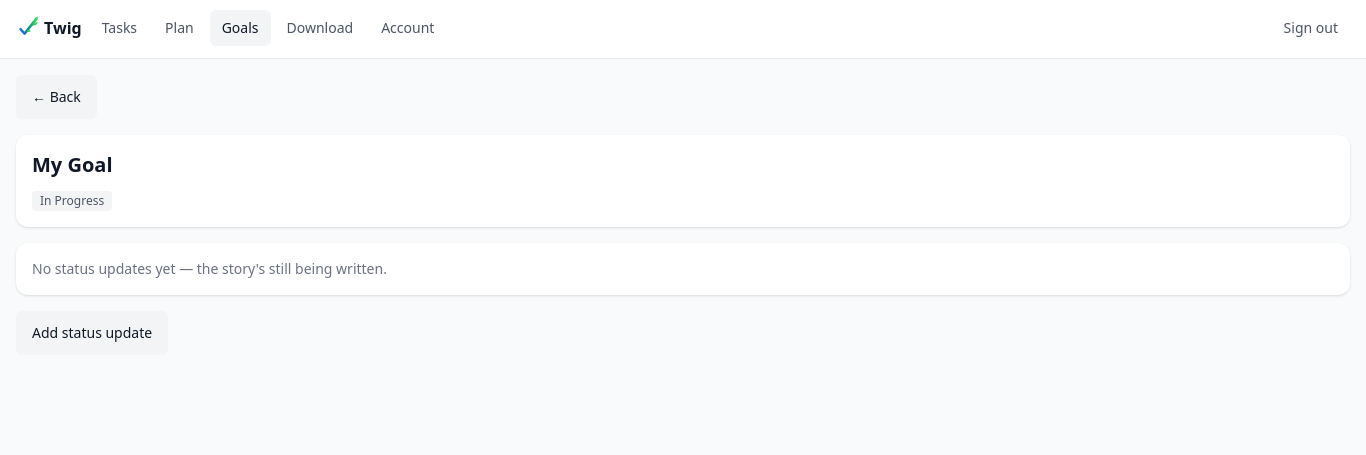
Test: GoalDetailPage — status updates › shows add form when Add button is clicked
The width and height of the screenshot is (1366, 455).
What coordinates should you click on to do the following:
click the button "Add status update"
I would click on:
 (92, 333)
Its box is [16,311,168,355].
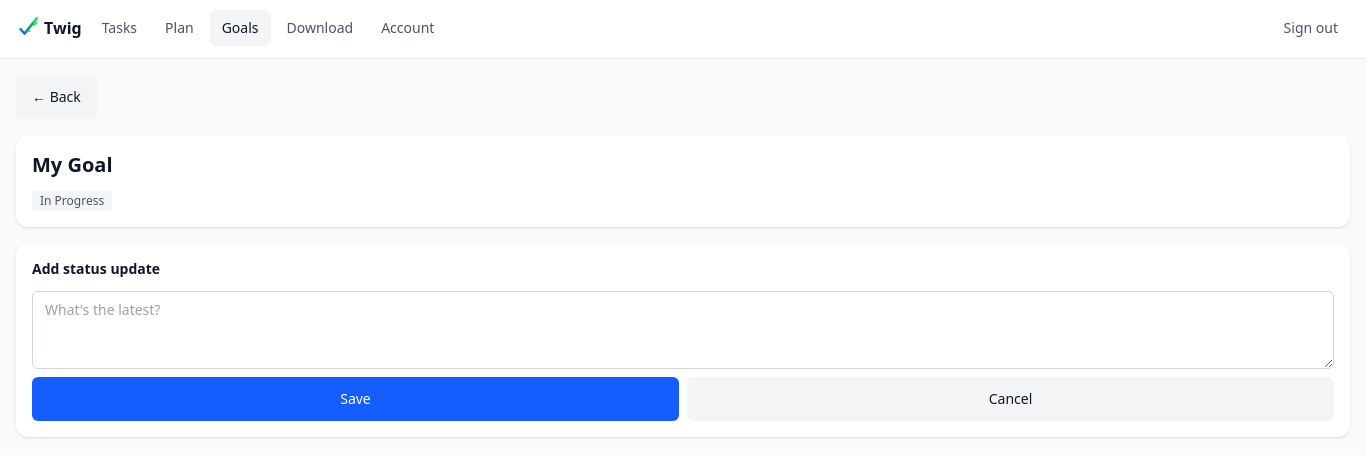
Check: the button "Save" is shown, box [32,377,679,421]
